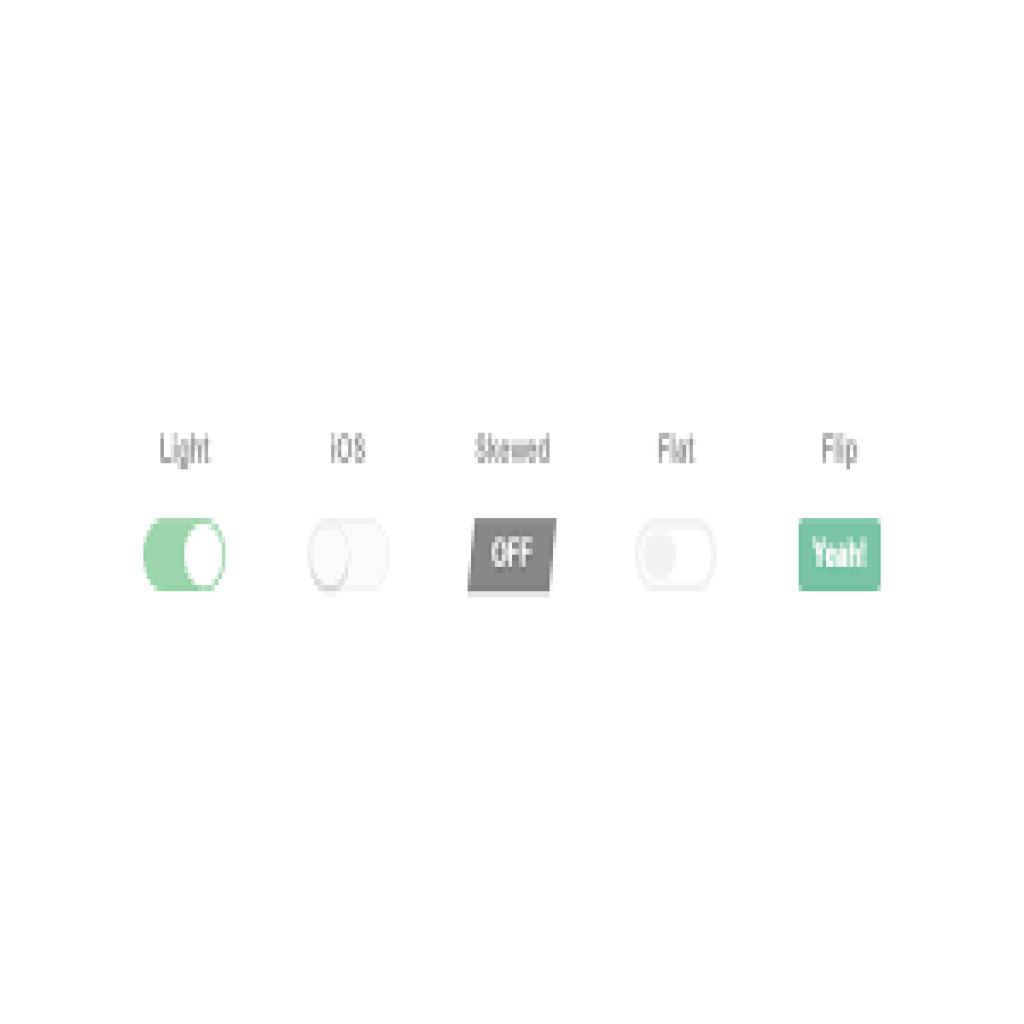label: (474, 432, 556, 467), (646, 433, 716, 470), (154, 429, 216, 468), (325, 430, 376, 470), (819, 430, 868, 471)
switch: (139, 508, 229, 603), (632, 500, 717, 600), (312, 510, 391, 600)
